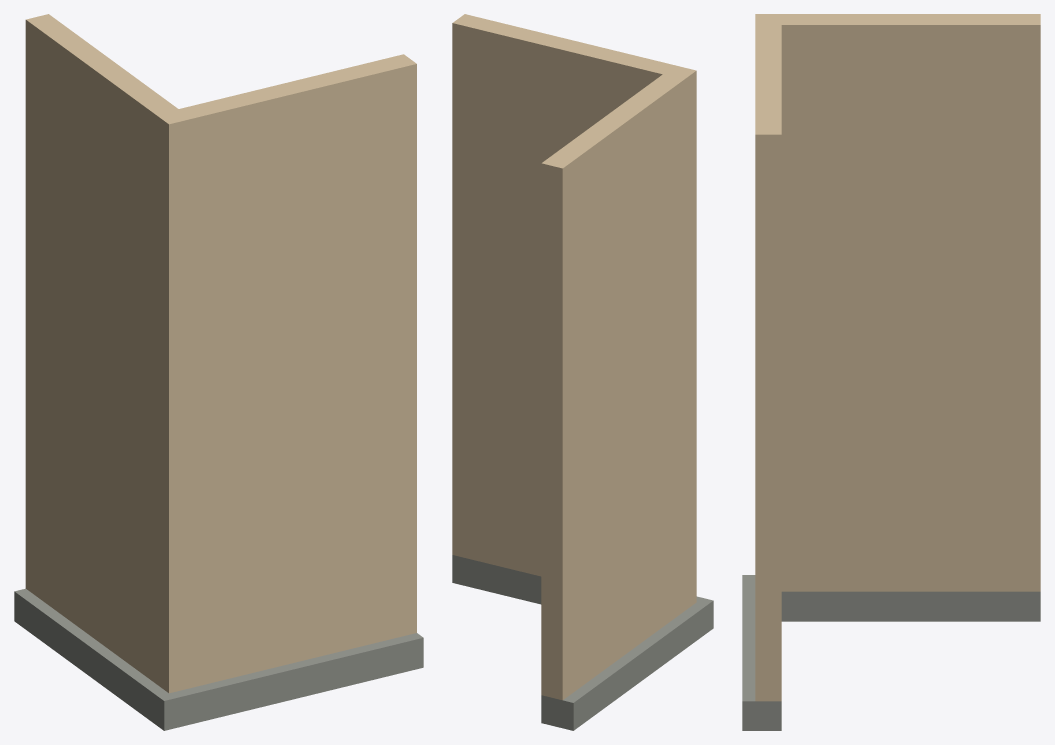
The model's file is mid-c1.fbx.
3 views of the same model, side by side, from view 1: azimuth 30°, elevation 25°; view 2: azimuth 150°, elevation 25°; view 3: azimuth 270°, elevation 25° (orthographic). The views are drawn at different scales.
Parts seen in each view (by area): view 1: a2001_400_mid-c1; view 2: a2001_400_mid-c1; view 3: a2001_400_mid-c1.
Boxes of the visible parts, left/top/right/bottom form: a2001_400_mid-c1: left=14, top=14, right=423, bottom=730; a2001_400_mid-c1: left=452, top=14, right=713, bottom=730; a2001_400_mid-c1: left=742, top=14, right=1040, bottom=730.
Bounding box in the file's own units: 1.36 × 3 × 1.36.
